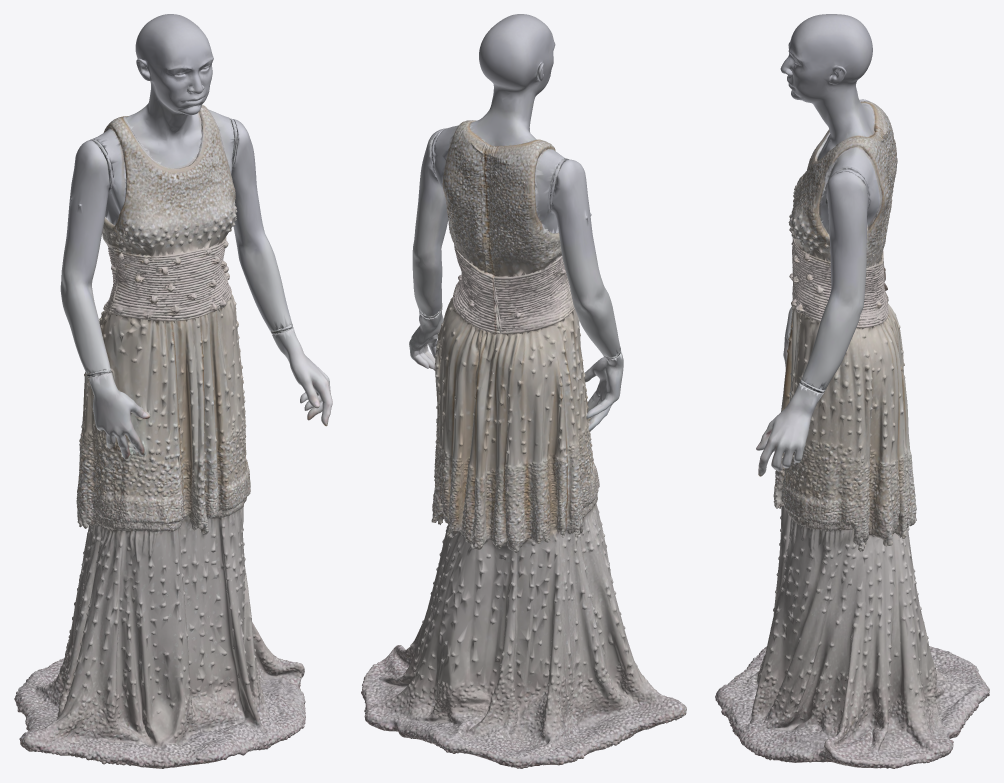
3 views of the same model, side by side, from view 1: azimuth 30°, elevation 25°; view 2: azimuth 150°, elevation 25°; view 3: azimuth 270°, elevation 25° (orthographic). The views are drawn at different scales.
Parts seen in each view (by area): view 1: tripo_node_765565bf-a807-4a1a-8e68-c3cabfdab6aa; view 2: tripo_node_765565bf-a807-4a1a-8e68-c3cabfdab6aa; view 3: tripo_node_765565bf-a807-4a1a-8e68-c3cabfdab6aa.
Part boxes in pixels (bbox=[...]): tripo_node_765565bf-a807-4a1a-8e68-c3cabfdab6aa: bbox=[14, 14, 332, 768]; tripo_node_765565bf-a807-4a1a-8e68-c3cabfdab6aa: bbox=[361, 14, 686, 768]; tripo_node_765565bf-a807-4a1a-8e68-c3cabfdab6aa: bbox=[715, 14, 989, 768].
Size of the model in its own units: 0.4359 by 0.9809 by 0.3503.
Materials: 1 (1 with a texture image).
